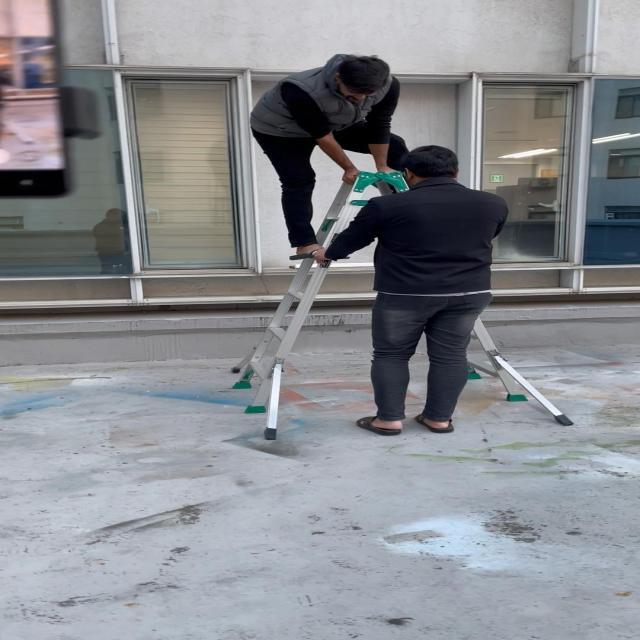boots: (234, 170, 574, 438)
vest: (310, 146, 510, 434), (248, 52, 422, 260)
